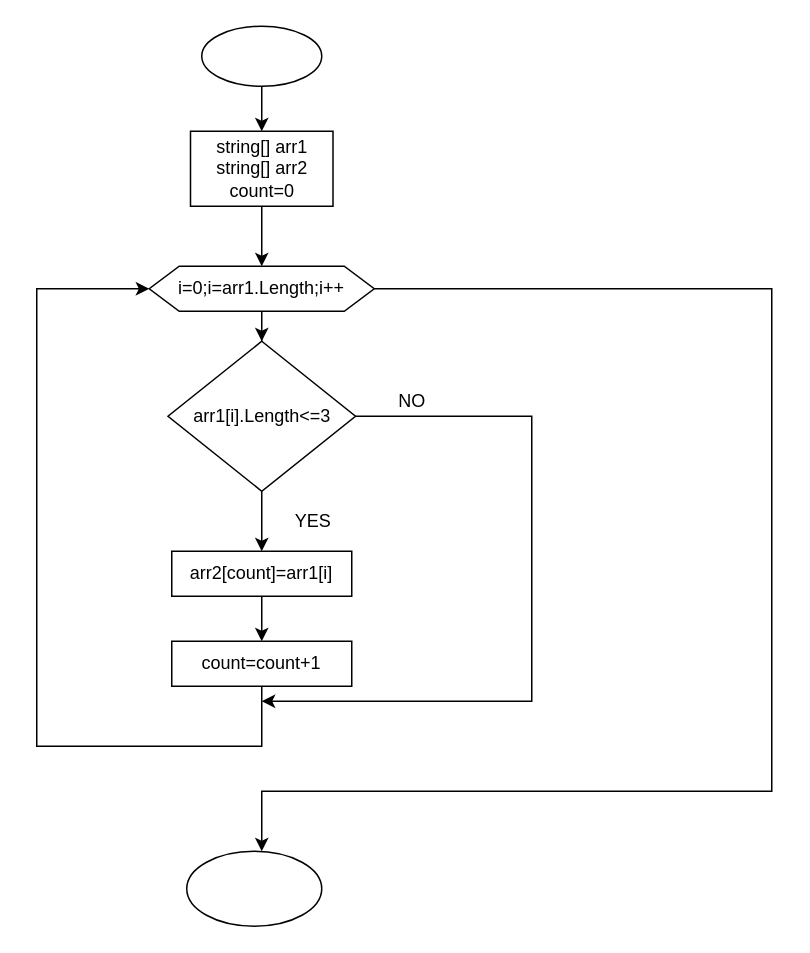
The diagram is 810 pixels wide and 953 high, and some of its shapes have lost their labels. The shapes that lost their labels are listed below. From the top down, each one's centre as x and y in pixels, then its label:
At (261,55): "Начало".
At (253,888): "Конец".
